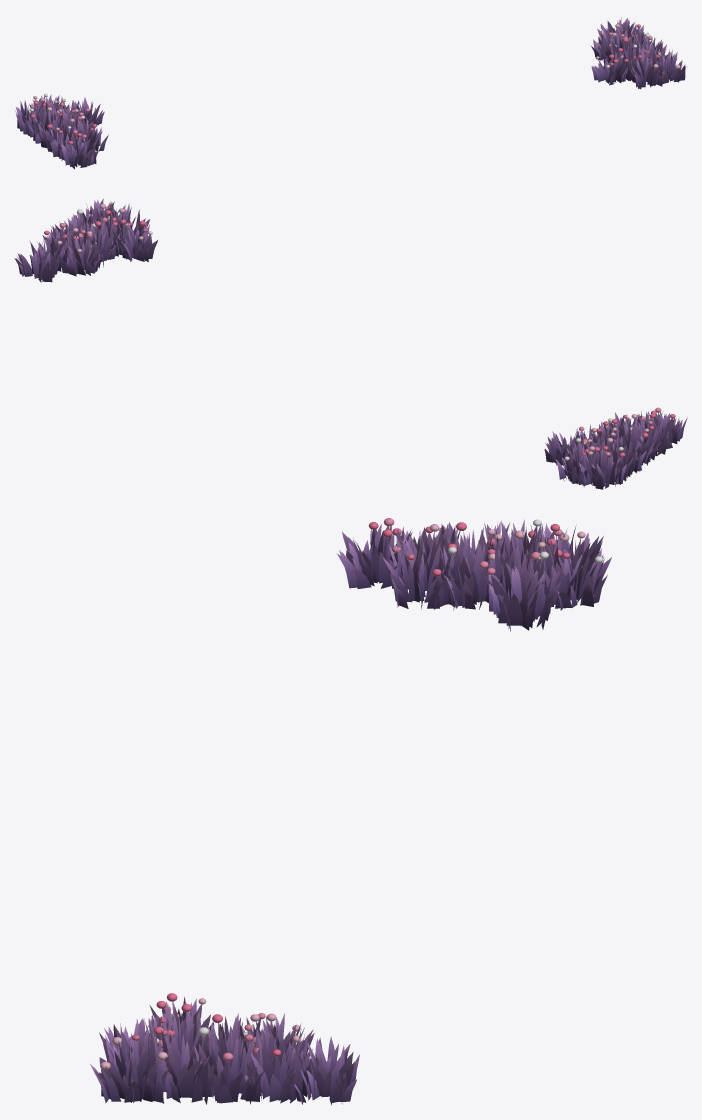
Rendered from stonecircle_grass.glb.
The picture shows the model from 3 angles, top to bottom: view 1: azimuth 30°, elevation 25°; view 2: azimuth 150°, elevation 25°; view 3: azimuth 270°, elevation 25°; orthographic projection. The views are drawn at different scales.
Parts seen in each view (by area): view 1: Grass_5_11, Grass_28_15, Grass_29_16, Grass_30_16, Grass_5_10, Grass_5_9, Grass_5_8, Grass_6_10, Grass_29_13, Grass_29_15, Grass_5_7, Grass_7_8 (+6 smaller); view 2: Grass_5_7, Grass_29_13, Grass_28_15, Grass_30_12, Grass_29_14, Grass_6_7, Grass_5_9, Grass_5_10, Grass_5_8, Grass_30_13, Grass_7_8, Grass_5_11 (+3 smaller); view 3: Grass_6_10, Grass_30_16, Grass_30_15, Grass_30_14, Grass_7_8, Grass_6_7, Grass_30_12, Grass_30_13, Grass_6_9, Grass_5_11, Grass_6_8, Grass_29_15 (+7 smaller).
Part boxes in pixels (x1=…): Grass_5_11: x1=59, y1=130, x2=98, y2=169; Grass_28_15: x1=591, y1=52, x2=631, y2=85; Grass_29_16: x1=629, y1=51, x2=664, y2=88; Grass_30_16: x1=651, y1=50, x2=686, y2=83; Grass_5_10: x1=42, y1=118, x2=85, y2=158; Grass_5_9: x1=35, y1=110, x2=71, y2=151; Grass_5_8: x1=21, y1=102, x2=58, y2=142; Grass_6_10: x1=70, y1=115, x2=108, y2=151; Grass_29_13: x1=591, y1=24, x2=625, y2=61; Grass_29_15: x1=617, y1=40, x2=651, y2=81; Grass_5_7: x1=15, y1=96, x2=46, y2=131; Grass_7_8: x1=66, y1=97, x2=104, y2=125; Grass_5_7: x1=579, y1=446, x2=626, y2=489; Grass_29_13: x1=56, y1=228, x2=107, y2=276; Grass_28_15: x1=112, y1=220, x2=157, y2=262; Grass_30_12: x1=14, y1=238, x2=63, y2=282; Grass_29_14: x1=75, y1=218, x2=119, y2=268; Grass_6_7: x1=556, y1=439, x2=596, y2=486; Grass_5_9: x1=609, y1=418, x2=660, y2=470; Grass_5_10: x1=625, y1=411, x2=669, y2=458; Grass_5_8: x1=595, y1=428, x2=646, y2=481; Grass_30_13: x1=29, y1=224, x2=80, y2=271; Grass_7_8: x1=544, y1=426, x2=592, y2=465; Grass_5_11: x1=643, y1=407, x2=687, y2=448; Grass_6_10: x1=382, y1=524, x2=457, y2=609; Grass_30_16: x1=90, y1=1024, x2=169, y2=1103; Grass_30_15: x1=150, y1=1026, x2=214, y2=1104; Grass_30_14: x1=193, y1=1026, x2=265, y2=1104; Grass_7_8: x1=484, y1=553, x2=561, y2=631; Grass_6_7: x1=539, y1=534, x2=611, y2=610; Grass_30_12: x1=288, y1=1037, x2=359, y2=1105; Grass_30_13: x1=244, y1=1024, x2=309, y2=1103; Grass_6_9: x1=432, y1=529, x2=509, y2=610; Grass_5_11: x1=336, y1=518, x2=412, y2=588; Grass_6_8: x1=487, y1=529, x2=550, y2=600; Grass_29_15: x1=145, y1=1001, x2=213, y2=1065.
Size of the model in its own units: 13.35 by 0.7244 by 5.37.
